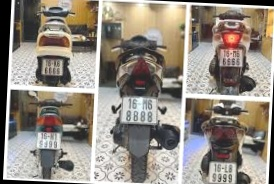Bien-so: (126, 94, 164, 124), (221, 150, 249, 173), (218, 37, 244, 57), (45, 140, 71, 160), (42, 69, 64, 86)
